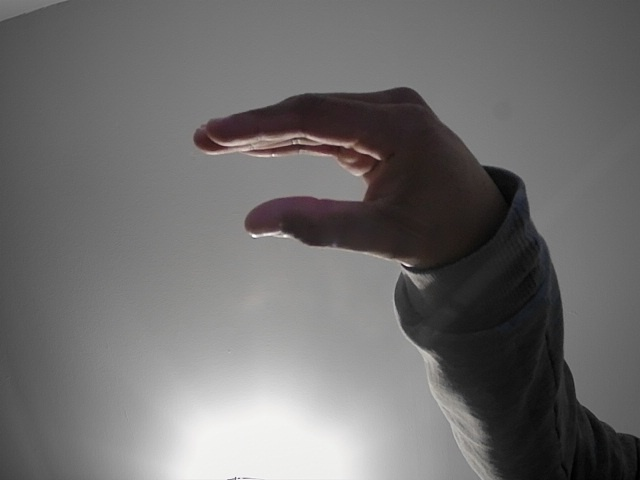No: (142, 46, 524, 307)
